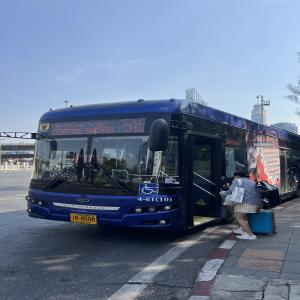Bus Line Number: (119, 114, 149, 134)
Bus Side Number: (136, 196, 173, 204)
Destination Sign: (48, 120, 115, 136)
TSB-Bus: (26, 99, 300, 234)
